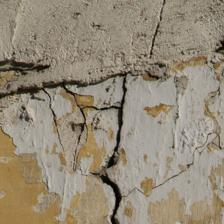Crack: (29, 68, 140, 156), (0, 55, 92, 142), (33, 0, 91, 66), (62, 1, 91, 100), (30, 0, 54, 115), (51, 28, 83, 91)
